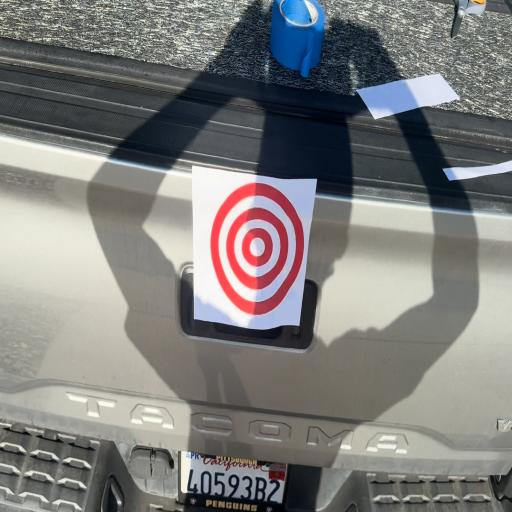bullseye: (208, 169, 317, 325)
